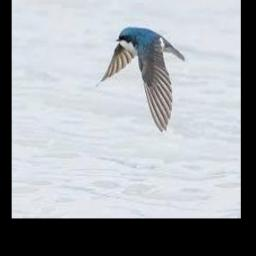Swallow: (98, 26, 186, 130)
